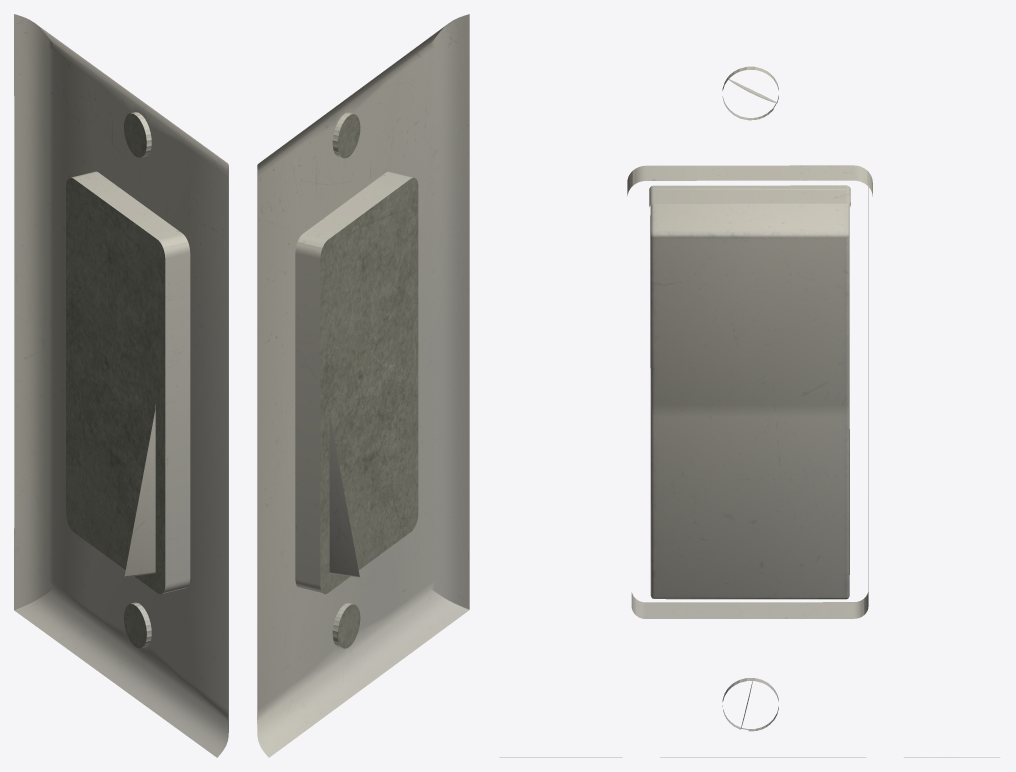
Rendered from lightswitch.glb.
3 renders of one model, left to right at view 1: azimuth 30°, elevation 25°; view 2: azimuth 150°, elevation 25°; view 3: azimuth 270°, elevation 25°, orthographic. The views are drawn at different scales.
Parts seen in each view (by area): view 1: CoverPlate, switch; view 2: CoverPlate, switch; view 3: switch, CoverPlate.
Boxes of the visible parts, x1,y1,x2,y2 form: CoverPlate: (14,14,228,757); switch: (124,405,155,577); CoverPlate: (257,14,469,757); switch: (329,414,360,577); switch: (650,188,849,599); CoverPlate: (499,66,999,757).
Bounding box in the file's own units: 0.0278 × 0.1767 × 0.1085.
Materials: 1 (1 with a texture image).
